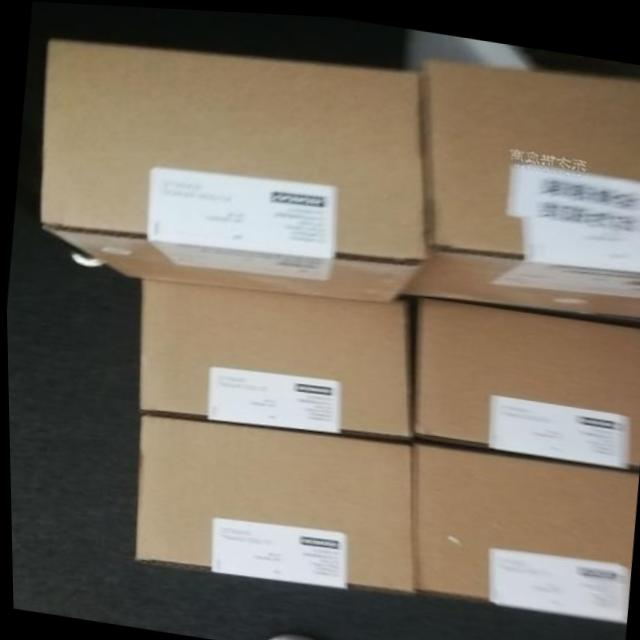box: (38, 38, 421, 300), (396, 55, 640, 316), (133, 415, 412, 588), (136, 277, 407, 435), (410, 442, 637, 619), (411, 290, 640, 464)
